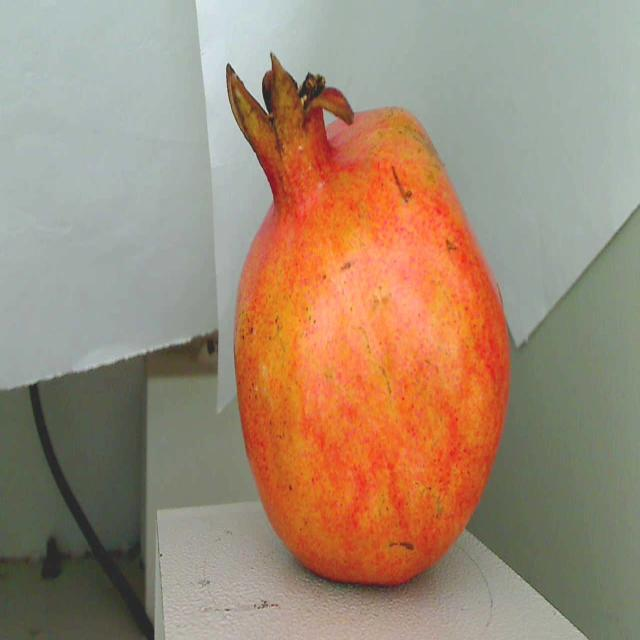pomegranate: (215, 40, 523, 604)
